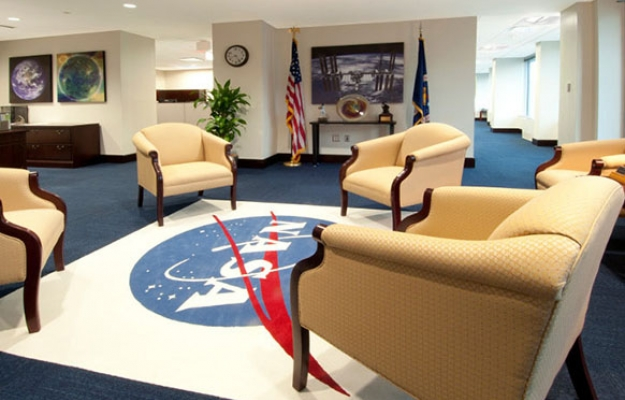NASA: (128, 208, 361, 398)
